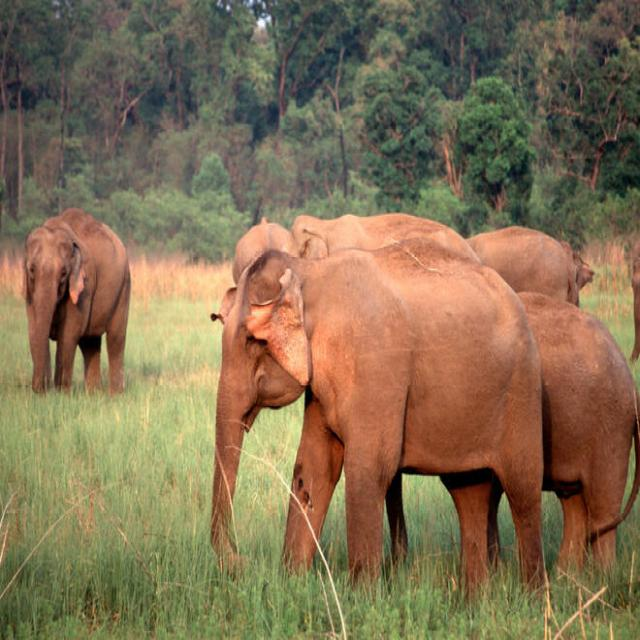Elephant: (207, 232, 550, 611), (538, 294, 640, 603), (17, 206, 135, 407)
